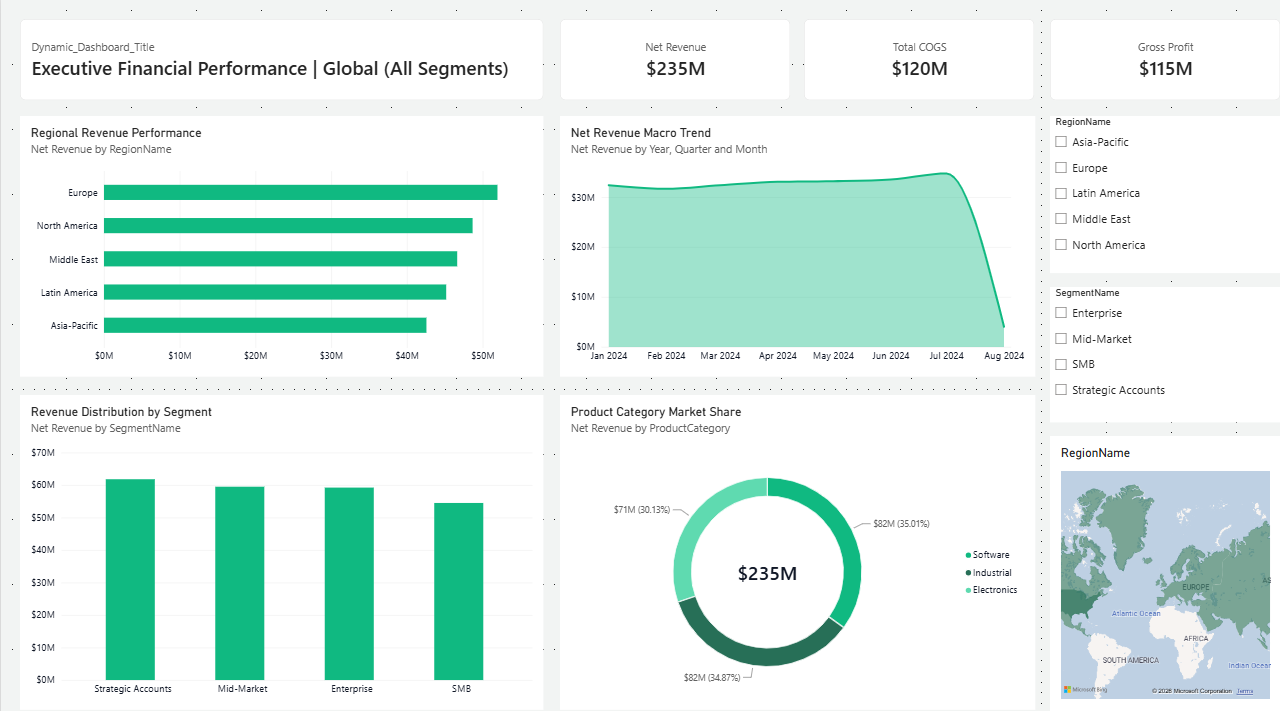

Layout of this report page (visuals, bound fields, positions):
{"tool":"powerbi","page":{"name":"EFP","canvas":[1920,1080],"ordinal":0},"visuals":[{"type":"cardVisual","fields":{"Data":["measures_table.Dynamic_Dashboard_Title"]},"box":[28.3,30,773.3,120],"z":0},{"type":"cardVisual","fields":{"Data":["measures_table.Net Revenue"]},"box":[825,30,340,120],"z":1},{"type":"cardVisual","fields":{"Data":["measures_table.Gross Profit"]},"box":[1550,30,340,120],"z":2},{"type":"cardVisual","fields":{"Data":["measures_table.Total COGS"]},"box":[1186.7,30,340,120],"z":3},{"type":"areaChart","title":"Net Revenue Macro Trend","fields":{"Category":["Fact_Transactions.Date.Variation.Date Hierarchy.Year","Fact_Transactions.Date.Variation.Date Hierarchy.Quarter","Fact_Transactions.Date.Variation.Date Hierarchy.Month"],"Y":["measures_table.Net Revenue"]},"box":[825,173.3,701.7,385],"z":4},{"type":"donutChart","title":"Product Category Market Share","fields":{"Category":["Dim_Products.ProductCategory"],"Y":["measures_table.Net Revenue"]},"box":[825,585,701.7,465],"z":5},{"type":"clusteredBarChart","title":"Regional Revenue Performance","fields":{"Category":["Dim_Regions.RegionName"],"Y":["measures_table.Net Revenue"]},"box":[28.3,173.3,773.3,385],"z":6},{"type":"clusteredColumnChart","title":"Revenue Distribution by Segment","fields":{"Category":["Dim_Segments.SegmentName"],"Y":["measures_table.Net Revenue"]},"box":[28.3,585,773.3,465],"z":7},{"type":"slicer","fields":{"Values":["Dim_Regions.RegionName"]},"box":[1550,173.3,340,231.7],"z":8},{"type":"slicer","fields":{"Values":["Dim_Segments.SegmentName"]},"box":[1550,425,340,200],"z":9},{"type":"filledMap","fields":{"Category":["Dim_Regions.RegionName"]},"box":[1549.3,645.4,341.2,404.7],"z":10}]}

Visuals, with their boxes in screenshot pixels (x1, y1, x2, y2), scaled from the page's 1920x1080 canvas onto the 1280x711 screenshot:
cardVisual - measures_table.Dynamic_Dashboard_Title: (x1=19, y1=20, x2=534, y2=99)
cardVisual - measures_table.Net Revenue: (x1=550, y1=20, x2=777, y2=99)
cardVisual - measures_table.Gross Profit: (x1=1033, y1=20, x2=1260, y2=99)
cardVisual - measures_table.Total COGS: (x1=791, y1=20, x2=1018, y2=99)
"Net Revenue Macro Trend" areaChart: (x1=550, y1=114, x2=1018, y2=368)
"Product Category Market Share" donutChart: (x1=550, y1=385, x2=1018, y2=691)
"Regional Revenue Performance" clusteredBarChart: (x1=19, y1=114, x2=534, y2=368)
"Revenue Distribution by Segment" clusteredColumnChart: (x1=19, y1=385, x2=534, y2=691)
slicer - Dim_Regions.RegionName: (x1=1033, y1=114, x2=1260, y2=267)
slicer - Dim_Segments.SegmentName: (x1=1033, y1=280, x2=1260, y2=411)
filledMap - Dim_Regions.RegionName: (x1=1033, y1=425, x2=1260, y2=691)
